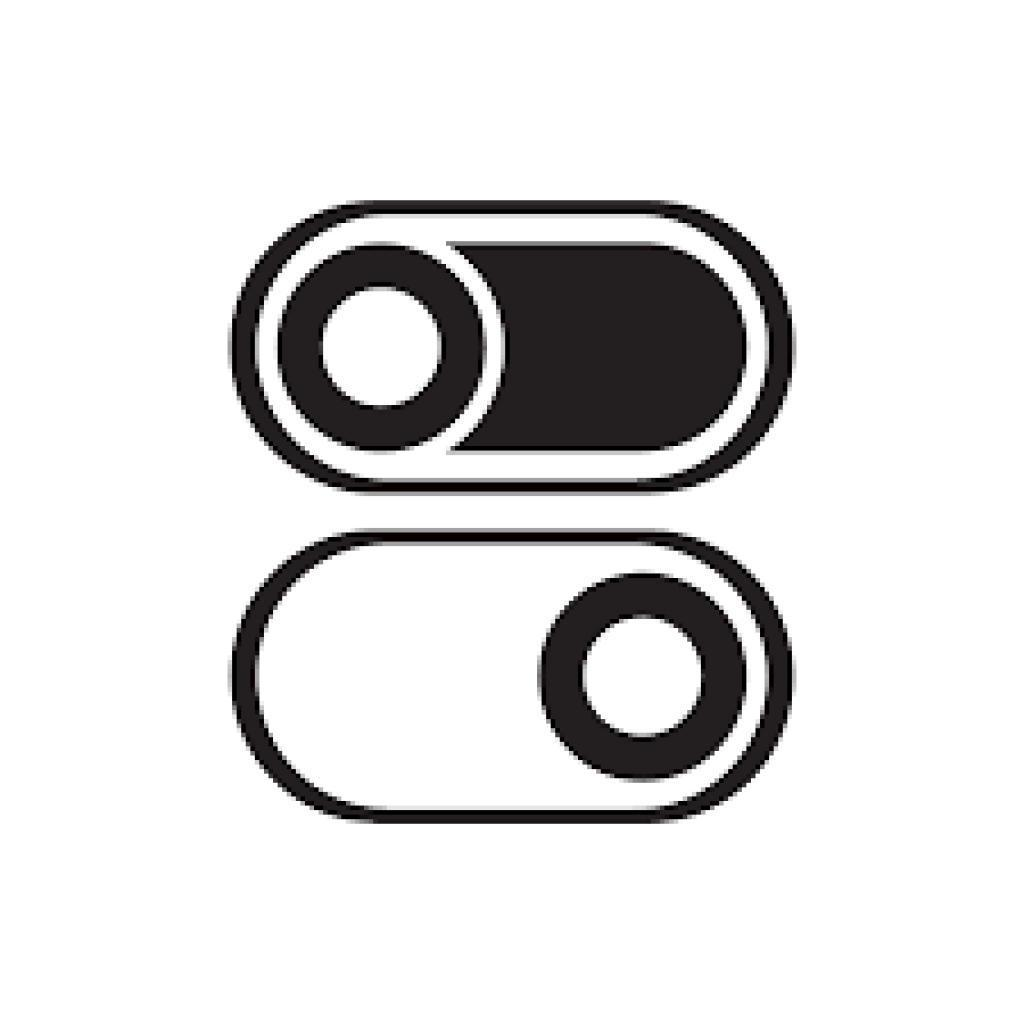switch: (229, 526, 797, 826), (230, 200, 800, 497)
